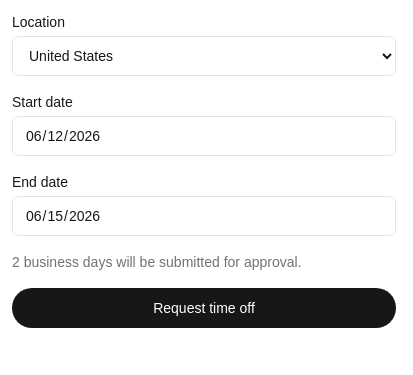
Test case: TimeOffRequestForm › caps request dates at the end of 2099
Type "2026-06-08" into the date field labelled "Start date" at (204, 136), box x1=12 y1=116 x2=396 y2=156
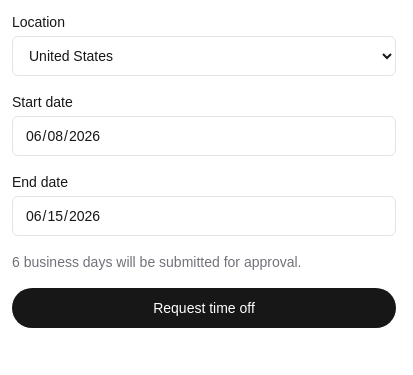
Type "34444-06-09" into the date field labelled "End date" at (204, 216), box x1=12 y1=196 x2=396 y2=236
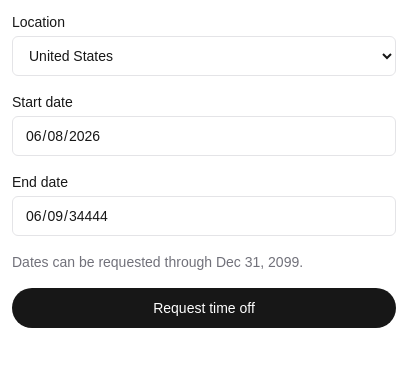
Click the button "Request time off" at (204, 308), box x1=12 y1=288 x2=396 y2=328
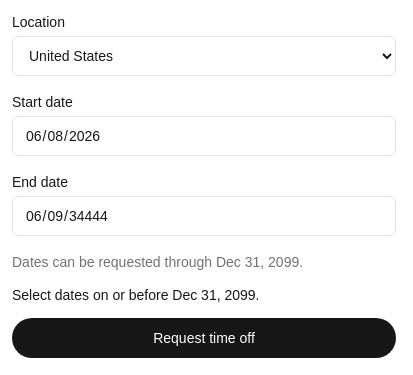
Expected: the text "Select dates on or before Dec 31, 2099." is shown, x1=12 y1=287 x2=260 y2=303
